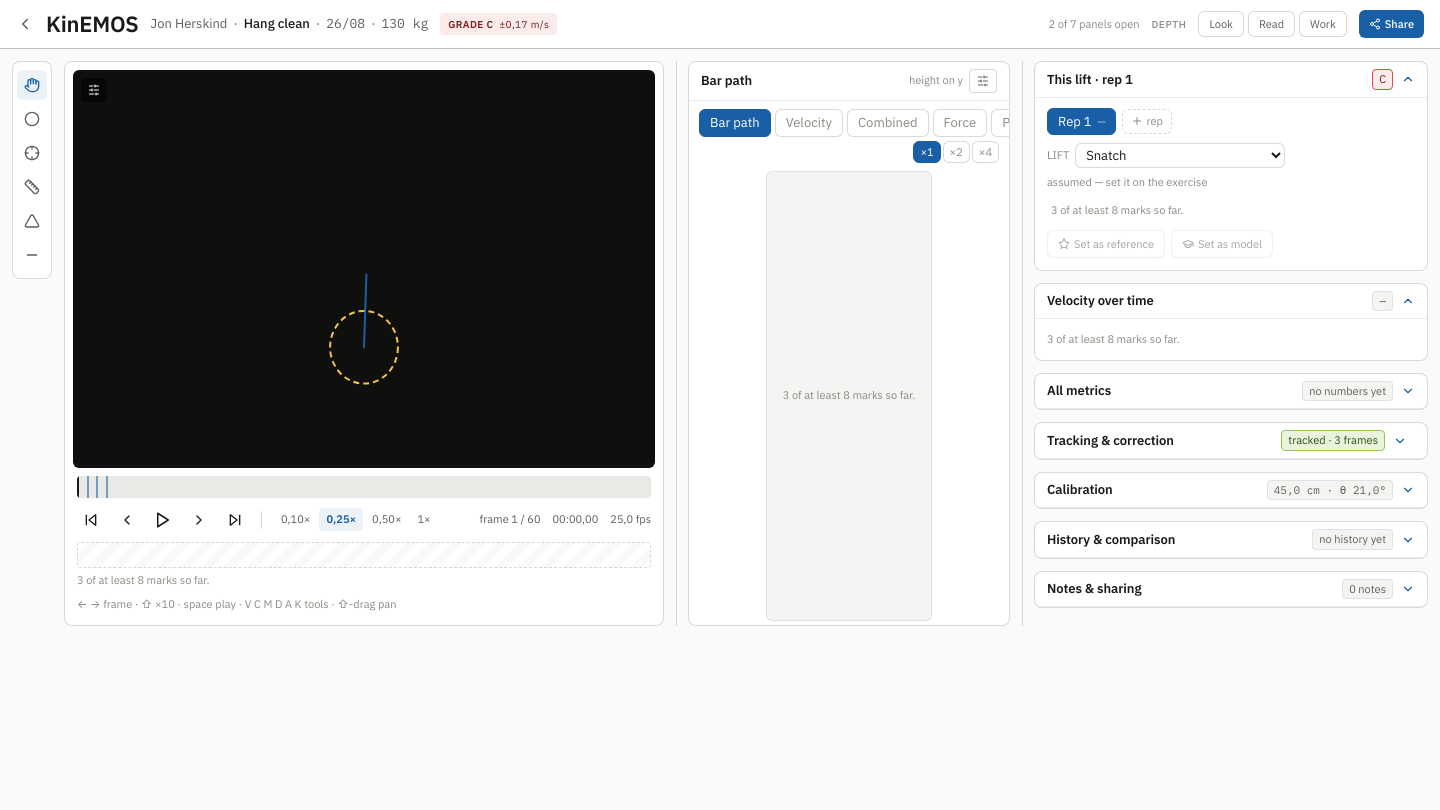
Test: KinemosViewer · "+ rep" offers to track the rest of the clip › says so when nothing after that point is a lift
The image size is (1440, 810).
Expected: the text "Hang clean" is shown, [244,14,310,34]
Click the button titled "Add a rep" at (1147, 121), box [1122,109,1172,134]
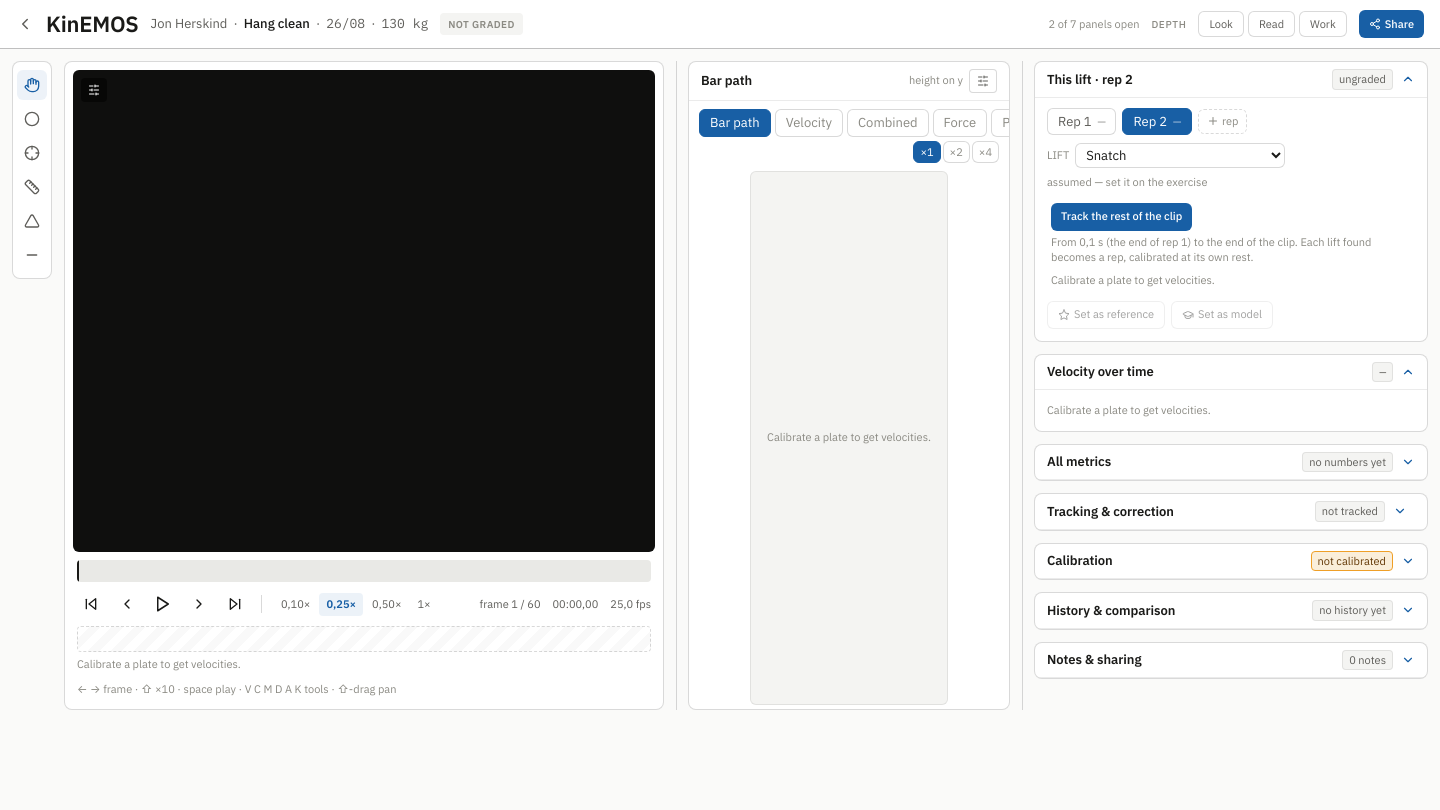
Click the button "Track the rest of the clip" at (1122, 216), box [1051,202,1192,230]
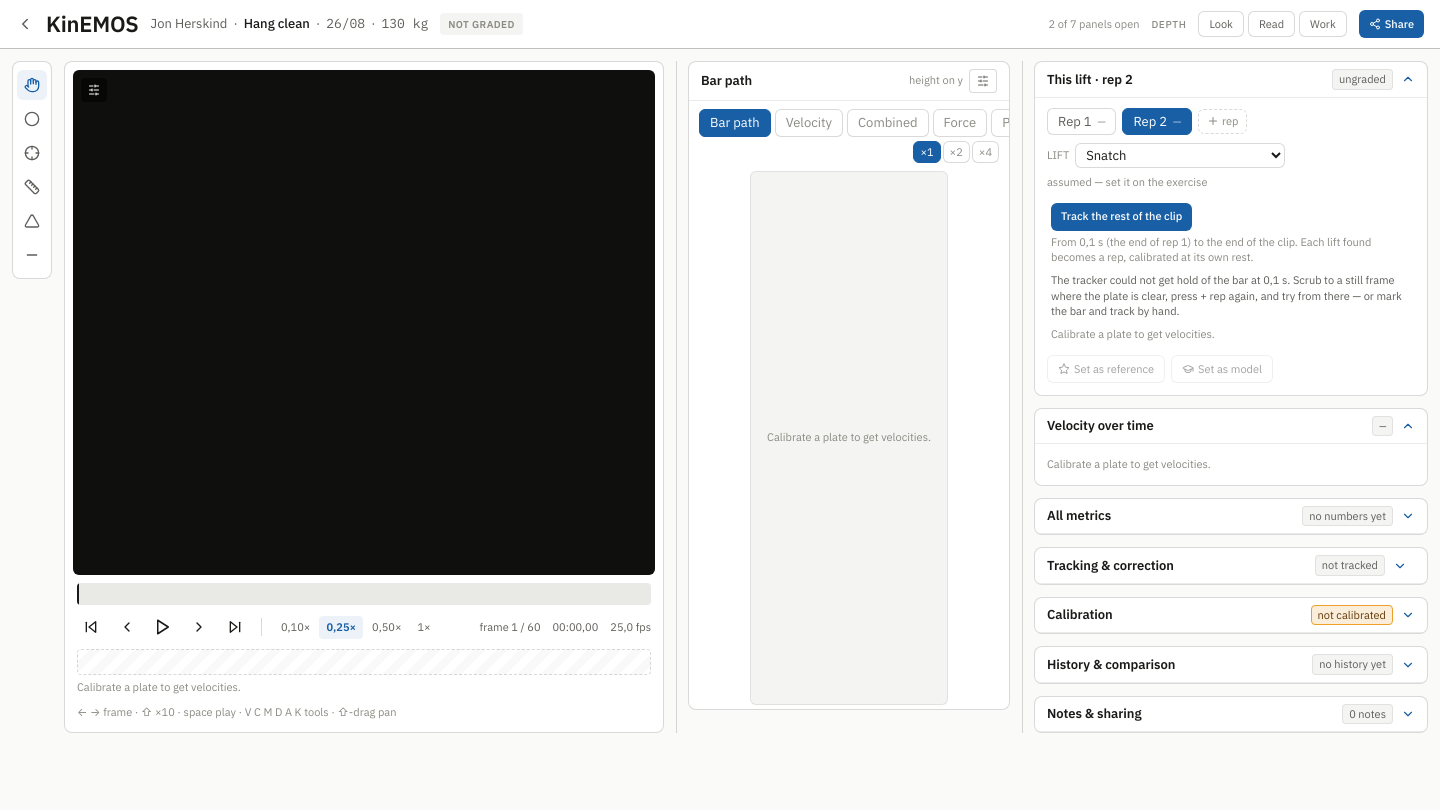
Now the button "Track the rest of the clip" is shown, box [1051,202,1192,230]
Now the text "could not get hold of the bar at 0,1 s" is shown, box [1051,273,1402,318]
